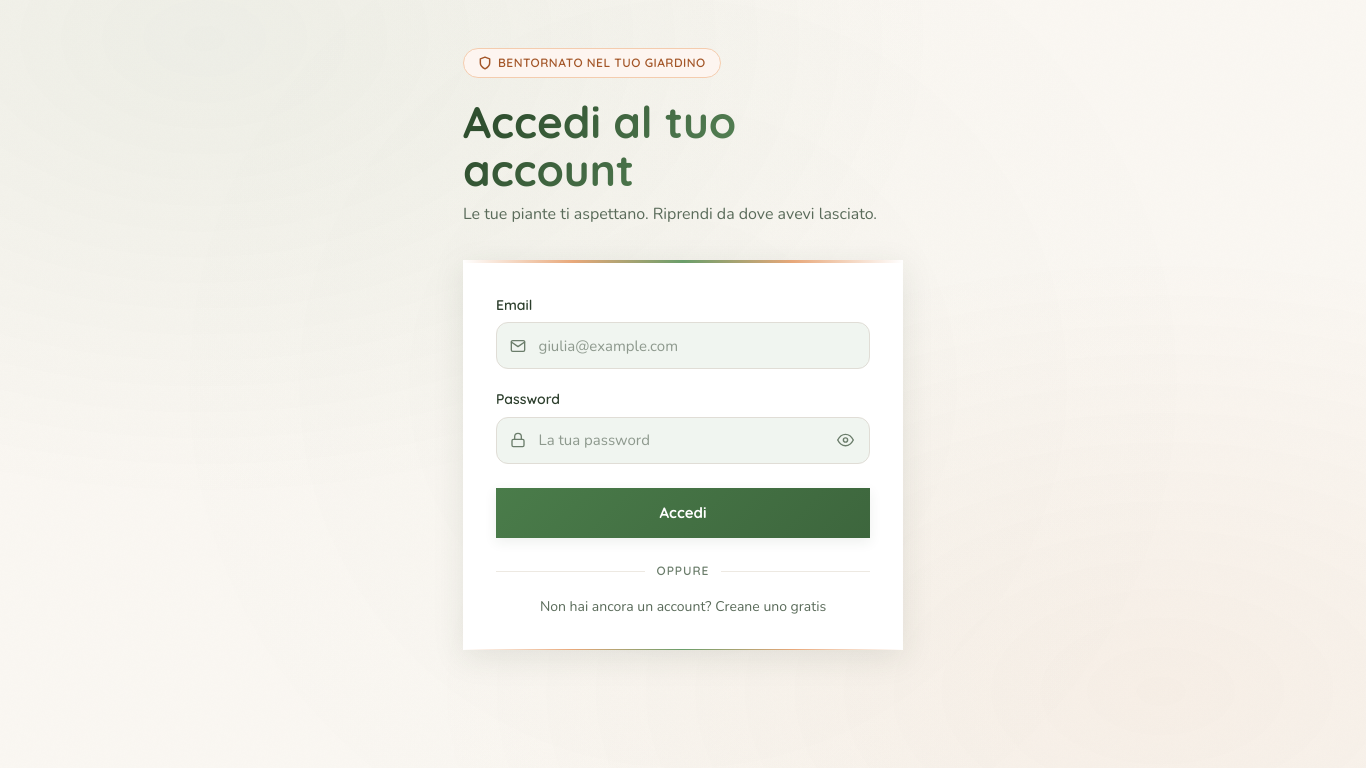
Test: PaginaAccesso › errore credenziali errate › mostra il banner di errore con il messaggio del server
Type "giulia@esempio.it" into the field labelled "Email" at {"x": 683, "y": 346}, box x1=496 y1=322 x2=870 y2=369
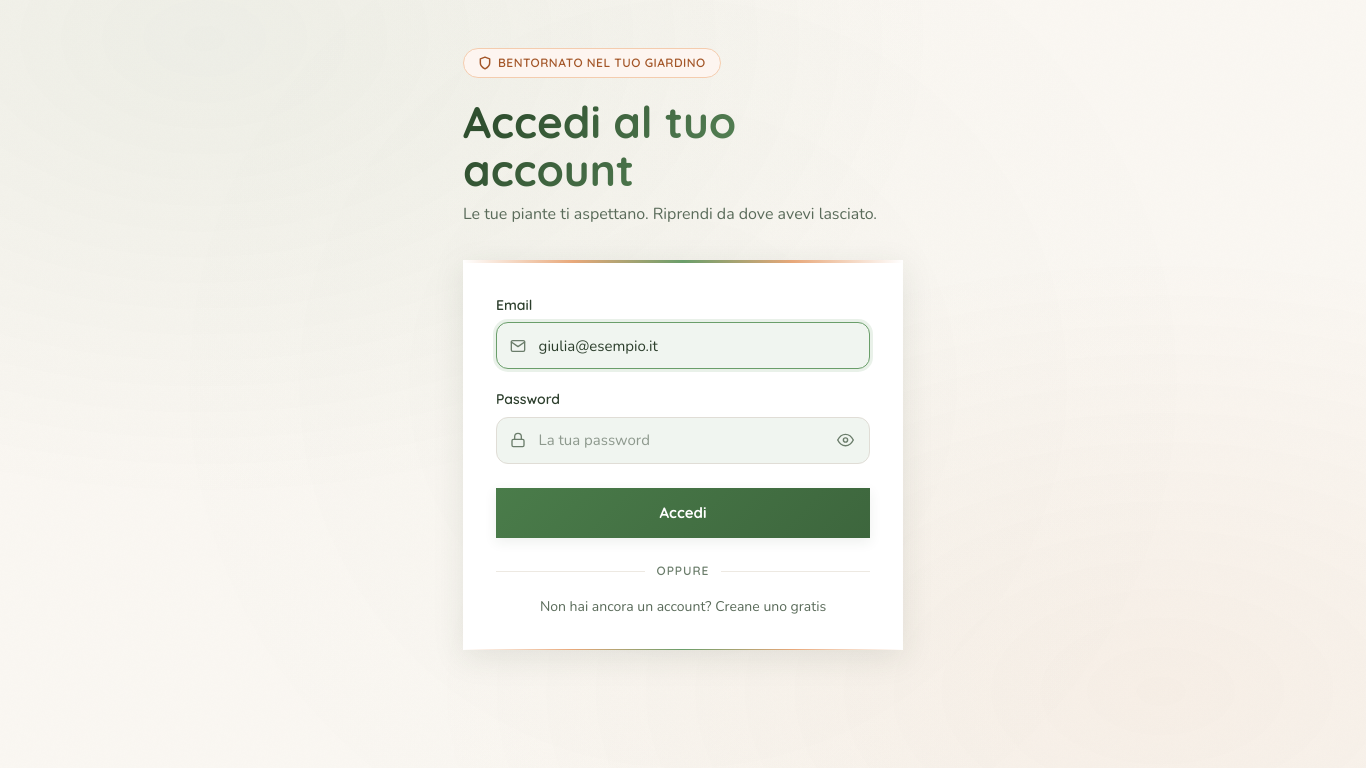
Type "PasswordSbagliata" into the password field labelled "Password" at {"x": 683, "y": 440}, box x1=496 y1=417 x2=870 y2=464
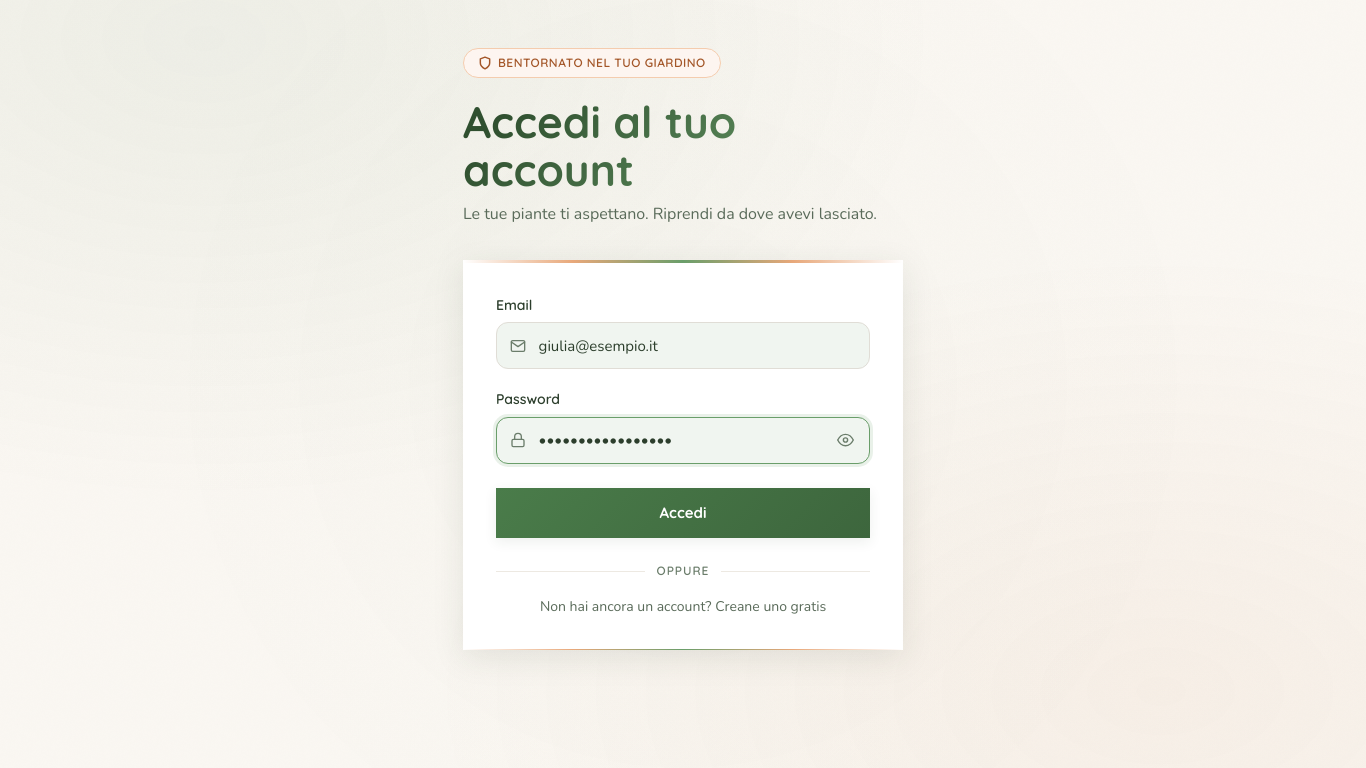
Click the button "Accedi" at {"x": 683, "y": 513}, box x1=496 y1=488 x2=870 y2=538
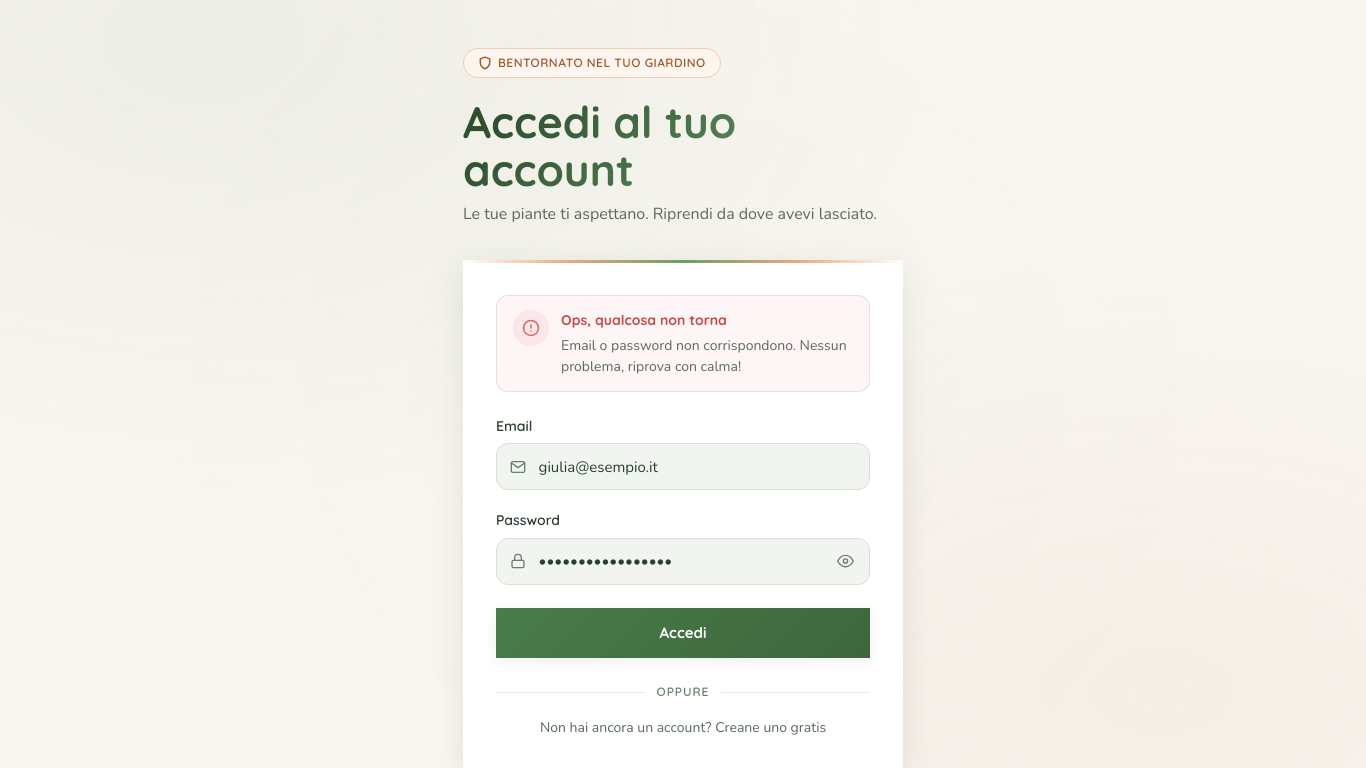
Now the text "Ops, qualcosa non torna" is shown, box x1=561 y1=311 x2=727 y2=329
Now the text "Email o password non corrispondono" is shown, box x1=561 y1=336 x2=847 y2=376
